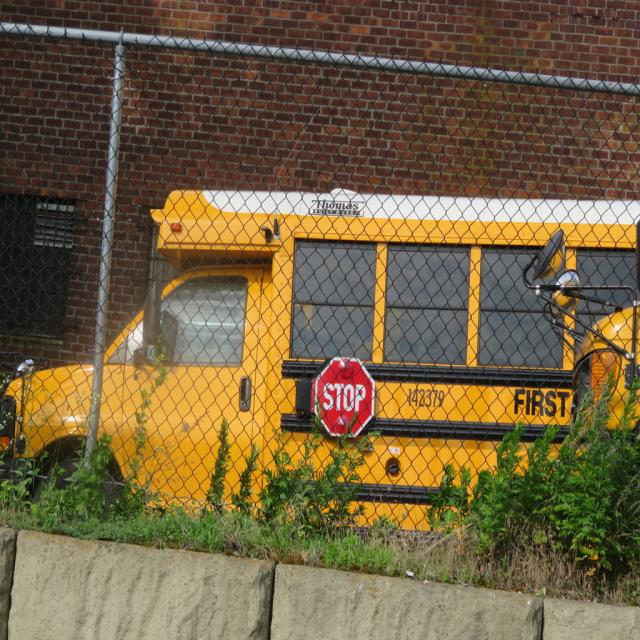Stop-sign: (314, 357, 376, 439)
